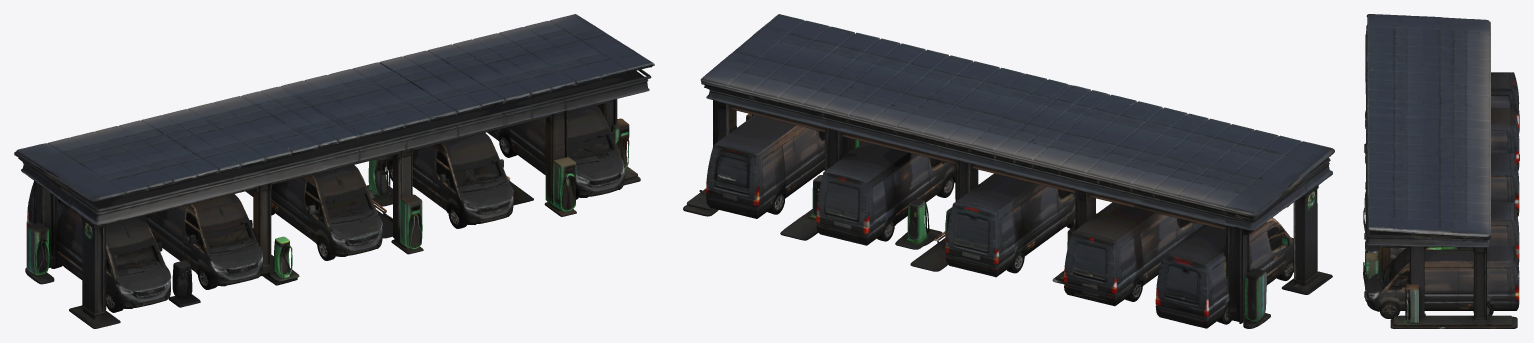
File: depot.glb
3 views of the same model, side by side, from view 1: azimuth 30°, elevation 25°; view 2: azimuth 150°, elevation 25°; view 3: azimuth 270°, elevation 25° (orthographic). The views are drawn at different scales.
Visible parts, largest first — view 1: tmp0c4g820kobj; view 2: tmp0c4g820kobj; view 3: tmp0c4g820kobj.
Boxes of the visible parts, <box> form: tmp0c4g820kobj: <box>14,14,654,328</box>; tmp0c4g820kobj: <box>683,14,1334,328</box>; tmp0c4g820kobj: <box>1363,14,1519,328</box>.
Bounding box in the file's own units: 1 × 0.2209 × 0.3084.
Materials: 1 (1 with a texture image).
